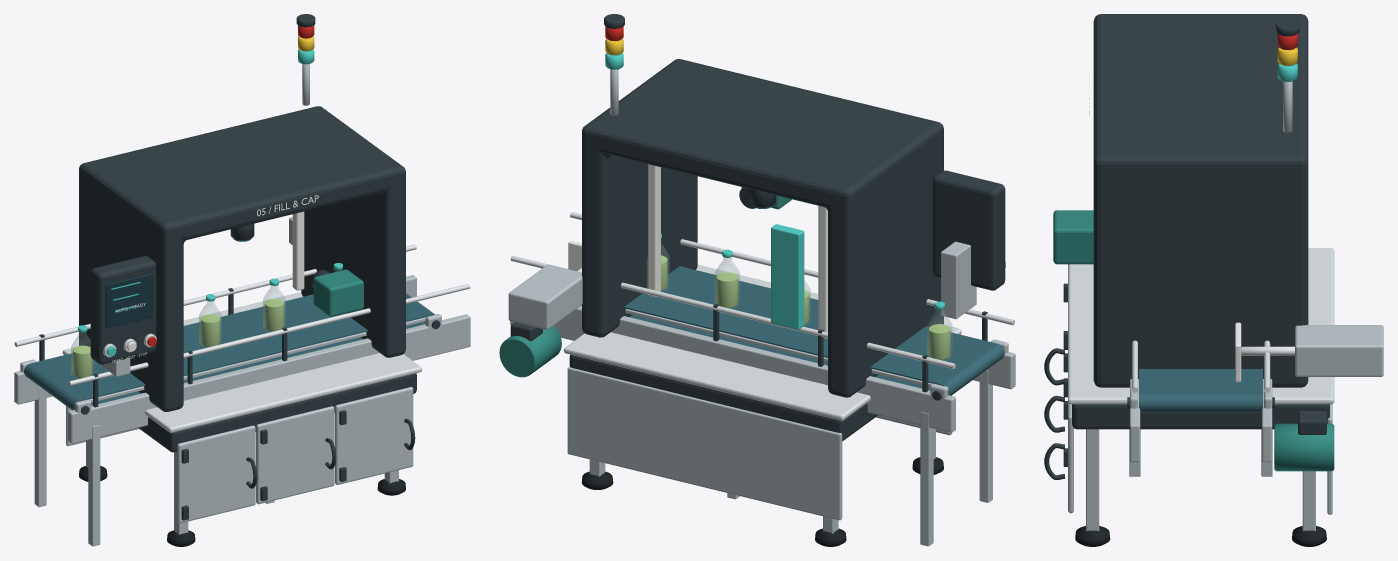
Rendered from secondary.glb.
3 renders of one model, left to right at view 1: azimuth 30°, elevation 25°; view 2: azimuth 150°, elevation 25°; view 3: azimuth 270°, elevation 25°, orthographic. The views are drawn at different scales.
Visible parts, largest first — view 1: Folded optical hood.001, Continuous hygienic PU belt.015, Folded side channel.008, Optical base top.001, Optical base access door.004, Optical base access door.005, Optical base access door.003, Optical terminal controller.001, Optical base chassis.001, Optical terminal display glass.001, Side camera.001, Guide rail.008 (+13 smaller); view 2: Folded optical hood.001, Optical base rear.001, Continuous hygienic PU belt.015, Optical base top.001, Folded side channel.009, Optical terminal controller.001, Optical base chassis.001, Reject actuator.001, Fill-level illuminator, Optical terminal mounting bracket.001, Conveyor gearmotor.004, Guide rail.009 (+12 smaller); view 3: Folded optical hood.001, Optical base top.001, Continuous hygienic PU belt.015, Reject actuator.001, Optical base chassis.001, Conveyor gearmotor.004, Side camera.001, Stainless square tube.018, Stainless square tube.019, Motor terminal box.004, Folded side channel.009, Folded side channel.008 (+6 smaller).
Boxes of the visible parts, x1,y1,x2,y2 form: Folded optical hood.001: [79, 106, 405, 411]; Continuous hygienic PU belt.015: [24, 293, 434, 410]; Folded side channel.008: [68, 314, 470, 443]; Optical base top.001: [62, 292, 422, 432]; Optical base access door.004: [256, 406, 334, 504]; Optical base access door.005: [335, 387, 413, 484]; Optical base access door.003: [177, 425, 255, 523]; Optical terminal controller.001: [90, 256, 156, 364]; Optical base chassis.001: [138, 373, 416, 452]; Optical terminal display glass.001: [105, 273, 153, 328]; Side camera.001: [313, 269, 363, 316]; Guide rail.008: [68, 284, 470, 385]; Folded optical hood.001: [582, 59, 943, 397]; Optical base rear.001: [567, 367, 842, 520]; Continuous hygienic PU belt.015: [581, 266, 1004, 395]; Optical base top.001: [564, 265, 961, 420]; Folded side channel.009: [510, 305, 955, 432]; Optical terminal controller.001: [932, 170, 1005, 290]; Optical base chassis.001: [569, 354, 877, 441]; Reject actuator.001: [508, 264, 582, 329]; Fill-level illuminator: [771, 224, 804, 329]; Optical terminal mounting bracket.001: [941, 241, 976, 319]; Conveyor gearmotor.004: [499, 325, 561, 377]; Guide rail.009: [510, 255, 955, 368]; Folded optical hood.001: [1093, 14, 1308, 387]; Optical base top.001: [1068, 248, 1334, 404]; Continuous hygienic PU belt.015: [1139, 369, 1262, 412]; Reject actuator.001: [1295, 325, 1383, 376]; Optical base chassis.001: [1072, 404, 1329, 429]; Conveyor gearmotor.004: [1274, 423, 1334, 471]; Side camera.001: [1053, 210, 1093, 264]; Stainless square tube.018: [1086, 429, 1099, 531]; Stainless square tube.019: [1302, 471, 1315, 531]; Motor terminal box.004: [1298, 411, 1326, 434]; Folded side channel.009: [1262, 379, 1272, 462]; Folded side channel.008: [1130, 379, 1140, 462].
Size of the model in its own units: 2.75 by 2.74 by 1.64.
